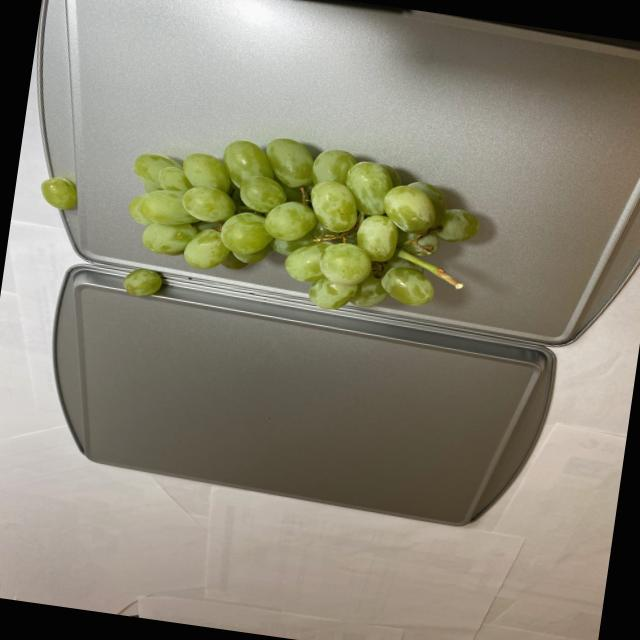grapes: (108, 128, 500, 344), (31, 172, 85, 214)
